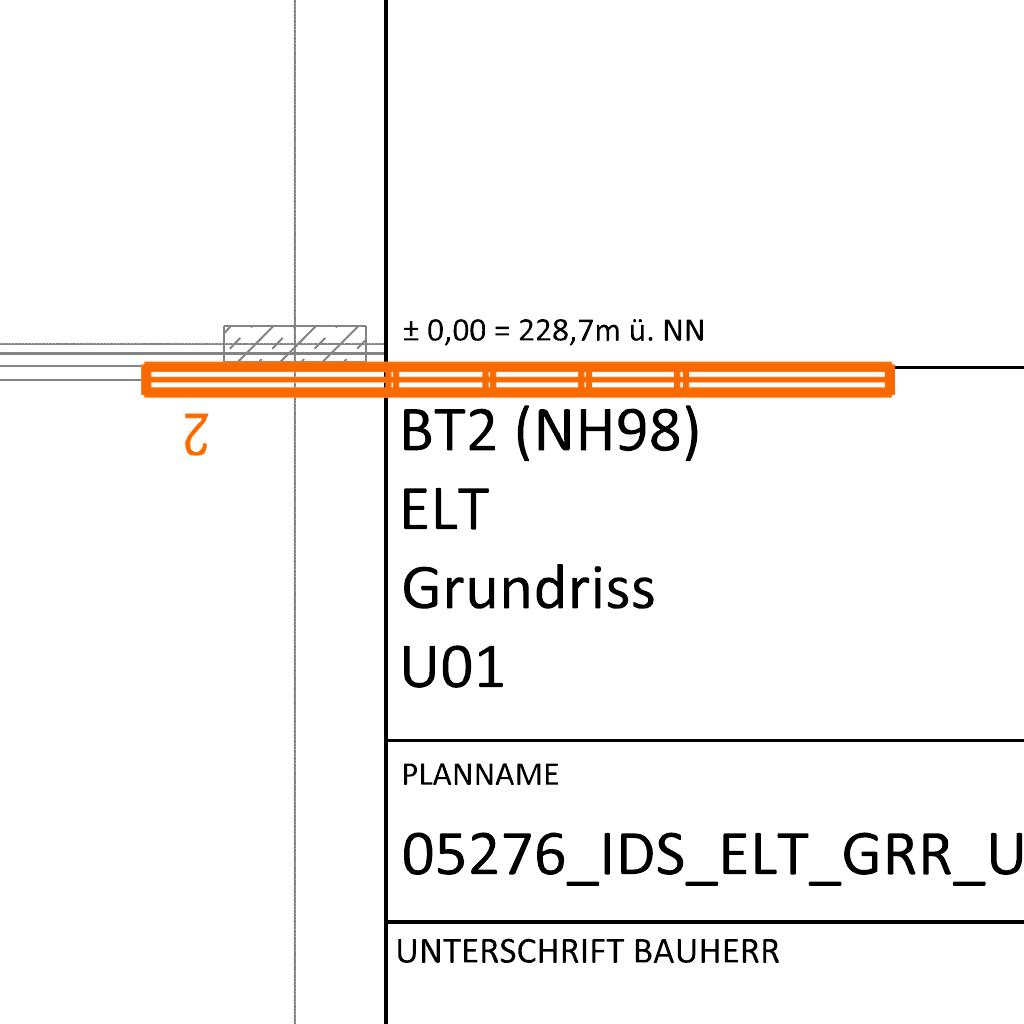Ambulanz_Pendelleuchte_LED: (132, 349, 906, 461)
